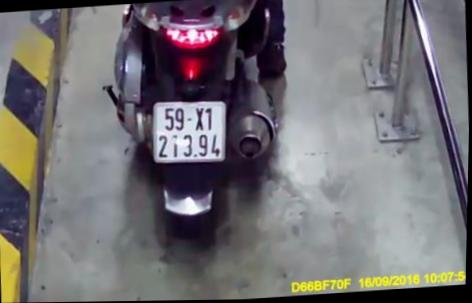LP: (152, 96, 229, 167)
